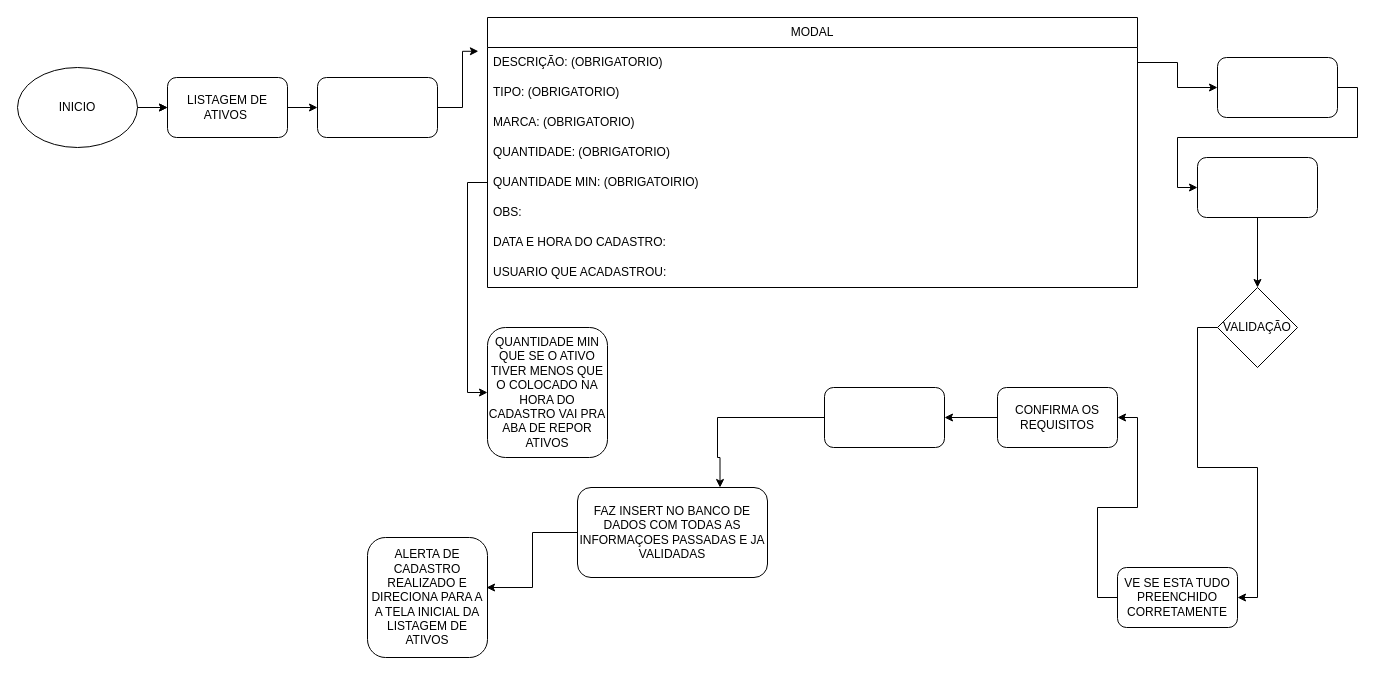
The diagram is 1383 pixels wide and 675 high, and some of its shapes have lost their labels. The shapes that lost their labels are listed below. From the top down, each one's box as (x1, y1, x2, y2) in pixels, then its label:
(316, 76, 438, 138): BOTAO PARA CADASTRAR ATIVO (ABRIR MODAL)
(1216, 56, 1338, 118): BOTAO DE CADASTRAR
(1196, 156, 1318, 218): VALIDAÇA DE CAMPOS
(824, 386, 944, 448): CADASTRAR ATIVO
